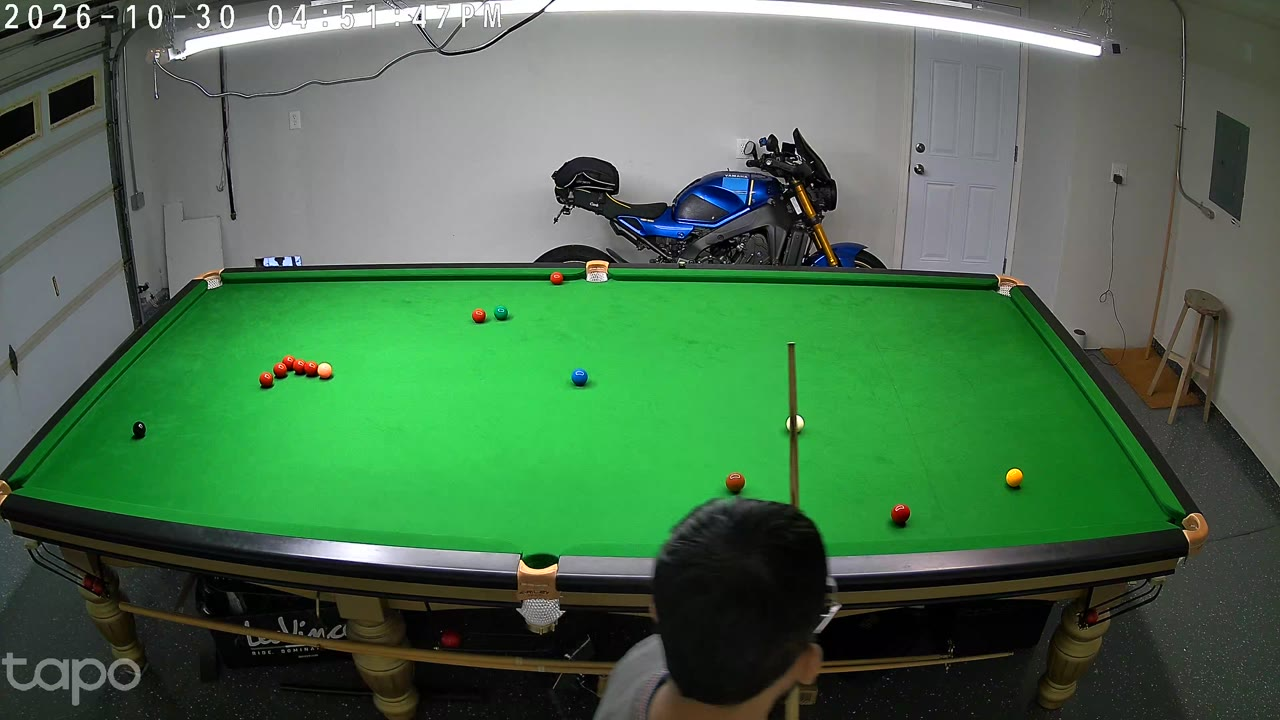black: (133, 420, 146, 441)
blue: (572, 367, 588, 389)
brown: (725, 471, 745, 496)
green: (495, 304, 507, 323)
pink: (319, 361, 331, 381)
red: (890, 502, 910, 528), (473, 307, 485, 326), (274, 362, 286, 380), (260, 371, 272, 389), (305, 360, 316, 378), (551, 271, 562, 288), (295, 358, 305, 376), (284, 355, 295, 371)
yellow: (1006, 467, 1023, 489)
